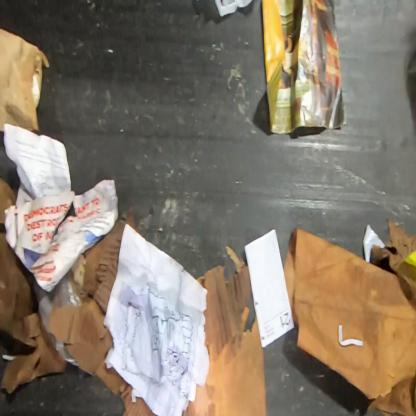cardboard: (47, 209, 159, 415), (179, 244, 269, 416), (0, 232, 67, 395), (0, 27, 51, 134), (369, 217, 416, 311), (365, 371, 415, 415), (0, 177, 17, 224)
soft_plastic: (33, 273, 82, 367), (214, 0, 255, 18)
